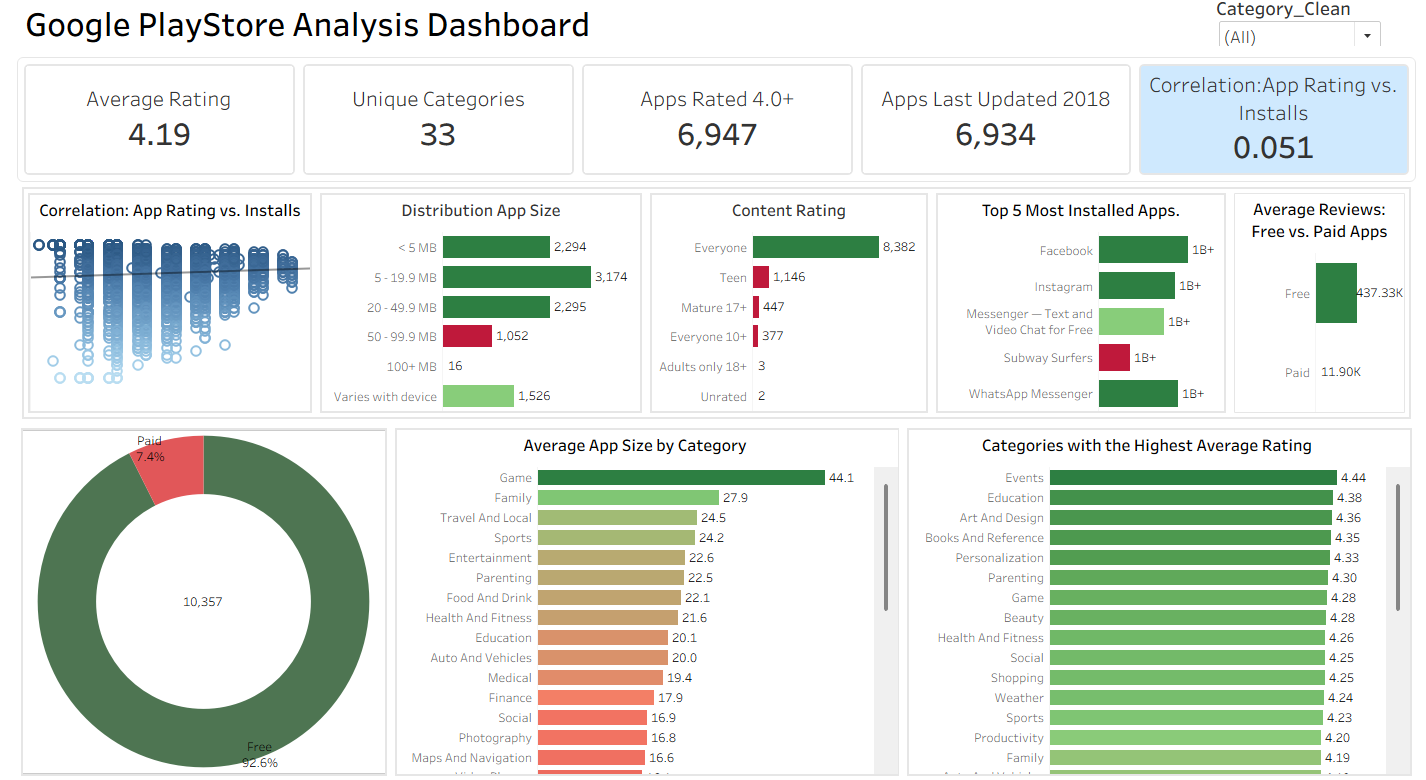

The dashboard page shown, as its layout file describes it:
{"tool":"tableau","page":{"name":"Dashboard 1","canvas":[1400,800],"ordinal":0},"visuals":[{"type":"text","box":[0,2,1399,67]},{"type":"filter","title":"KPI Avg_Rating","param":"[federated.019ev5d0986adr167u6dm0snf7zb].[none:Calculation_0197685440053249:nk]","box":[1199,7,168,51]},{"type":"worksheet","title":"KPI Avg_Rating","mark":"Automatic","box":[3,72,279,119]},{"type":"worksheet","title":"Unique App CountKPI","mark":"Automatic","box":[282,72,279,119]},{"type":"worksheet","title":"App Rated 4.0+ E7","mark":"Automatic","box":[561,72,279,119]},{"type":"worksheet","title":"Apps Updated 2018E10","mark":"Automatic","box":[840,72,278,119]},{"type":"worksheet","title":"App Rating vs. InstallsM1","mark":"Automatic","box":[1118,72,278,119]},{"type":"worksheet","title":"Corr(rating vs installs)M1","mark":"Automatic","rows":["Rating"],"cols":["Calculation_0197685493825552"],"box":[7,201,292,228]},{"type":"worksheet","title":"Distribution App Size","mark":"Bar","rows":["Calculation_0197685461717006"],"cols":["Calculation_0197685439774720"],"box":[299,201,330,228]},{"type":"worksheet","title":"Content rating AppE5","mark":"Automatic","rows":["Content Rating"],"cols":["Calculation_0197685439774720"],"box":[629,201,286,228]},{"type":"worksheet","title":"Top 5 Installed AppE6","mark":"Automatic","rows":["Calculation_1377737077878849"],"cols":["Calculation_0197685566861368"],"box":[915,201,298,228]},{"type":"worksheet","title":"Avg Review Paid Vs FreeE8","mark":"Automatic","rows":["Calculation_0197685449314311"],"cols":["Reviews"],"box":[1213,201,179,228]},{"type":"worksheet","title":"Free Vs Paid AppE4","mark":"Pie","cols":["Calculation_0197685547941941","Calculation_0197685547941941"],"box":[0,436,373.7,356]},{"type":"worksheet","title":"Avg App size per CategoryE9","mark":"Automatic","rows":["Calculation_0197685440053249"],"cols":["Calculation_0197685459951629"],"box":[373.7,436,512.7,356]},{"type":"worksheet","title":"Cat higestavg ratingM2","mark":"Automatic","rows":["Calculation_0197685440053249"],"cols":["Rating"],"box":[886.3,436,512.7,356]}]}

Visuals, with their boxes on the page's 1400x800 design canvas (x1, y1, x2, y2). These are canvas units, not pixel positions in the 1426x780 screenshot, which may show the page scaled, cropped or inside an application window:
text: x1=0, y1=2, x2=1399, y2=69
"KPI Avg_Rating" filter: x1=1199, y1=7, x2=1367, y2=58
"KPI Avg_Rating" worksheet: x1=3, y1=72, x2=282, y2=191
"Unique App CountKPI" worksheet: x1=282, y1=72, x2=561, y2=191
"App Rated 4.0+ E7" worksheet: x1=561, y1=72, x2=840, y2=191
"Apps Updated 2018E10" worksheet: x1=840, y1=72, x2=1118, y2=191
"App Rating vs. InstallsM1" worksheet: x1=1118, y1=72, x2=1396, y2=191
"Corr(rating vs installs)M1" worksheet: x1=7, y1=201, x2=299, y2=429
"Distribution App Size" worksheet (Bar marks): x1=299, y1=201, x2=629, y2=429
"Content rating AppE5" worksheet: x1=629, y1=201, x2=915, y2=429
"Top 5 Installed AppE6" worksheet: x1=915, y1=201, x2=1213, y2=429
"Avg Review Paid Vs FreeE8" worksheet: x1=1213, y1=201, x2=1392, y2=429
"Free Vs Paid AppE4" worksheet (Pie marks): x1=0, y1=436, x2=374, y2=792
"Avg App size per CategoryE9" worksheet: x1=374, y1=436, x2=886, y2=792
"Cat higestavg ratingM2" worksheet: x1=886, y1=436, x2=1399, y2=792
